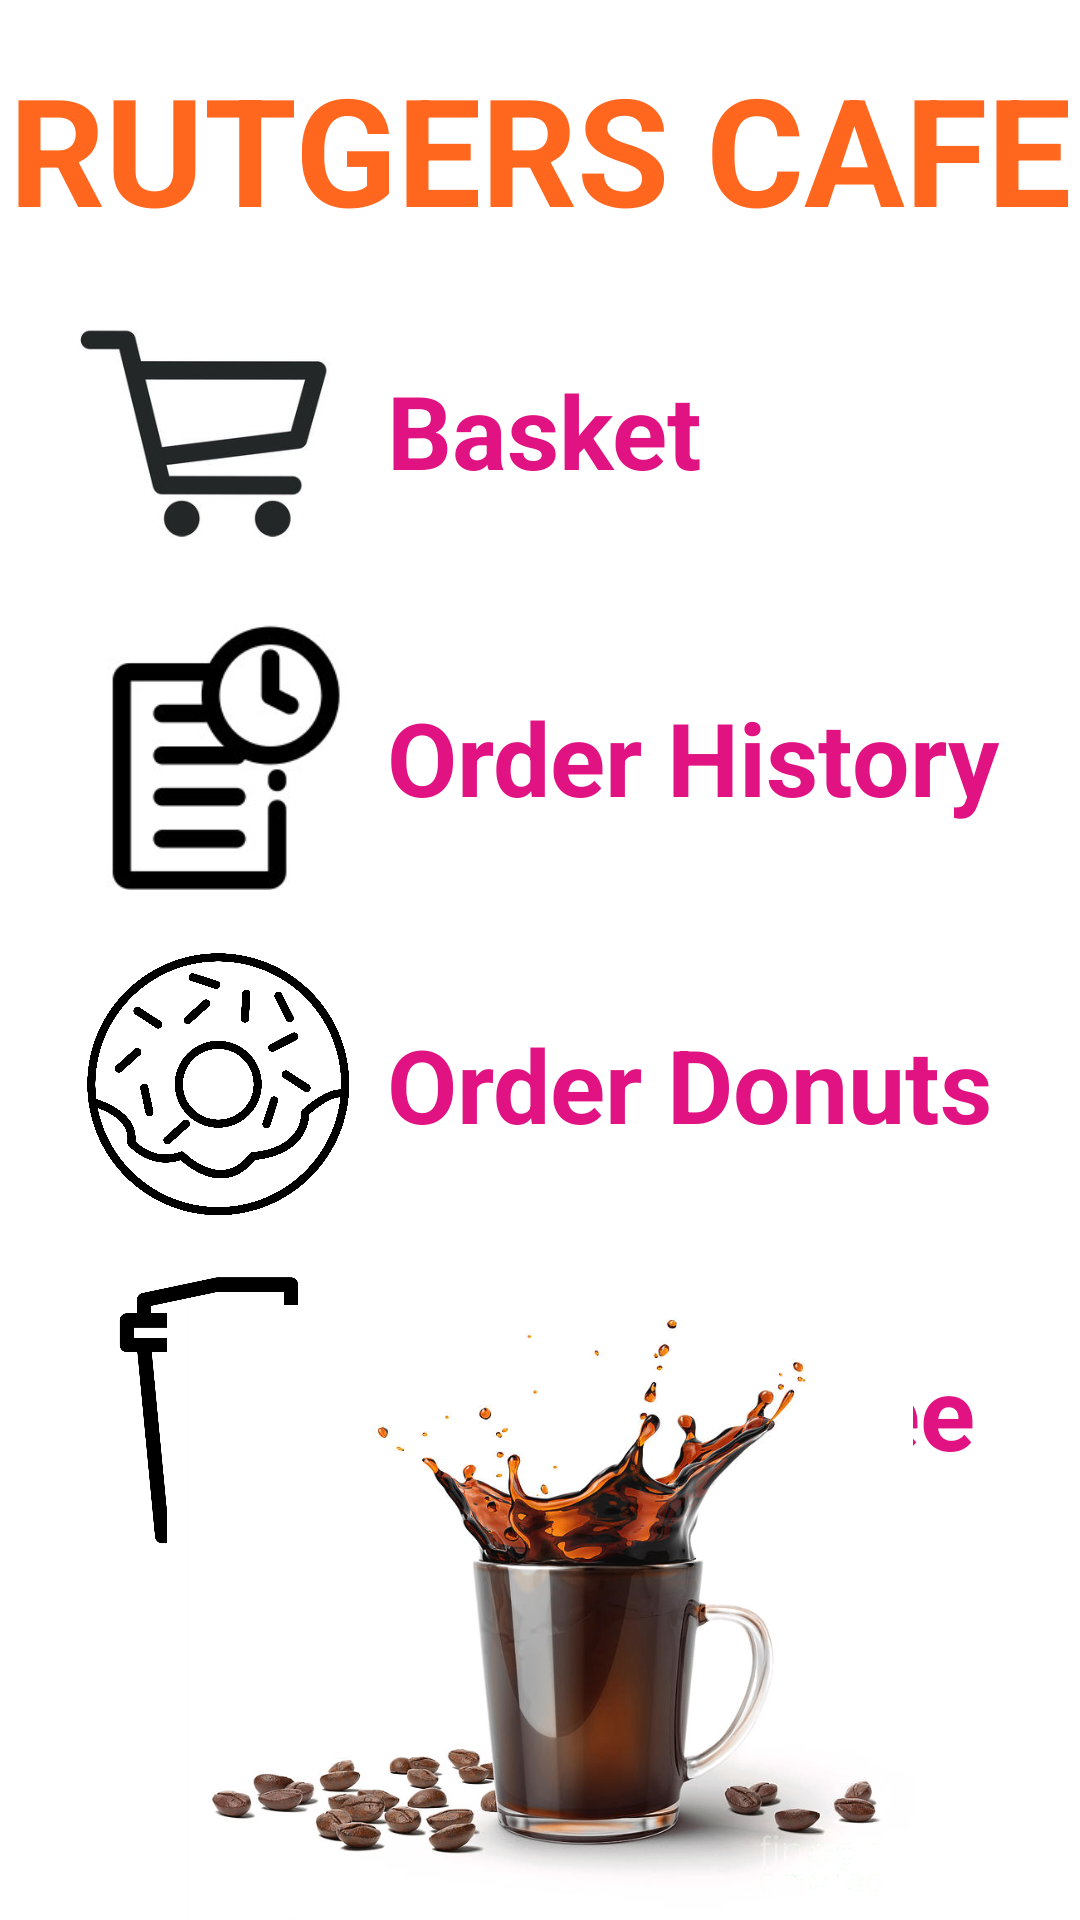

Where to tap for icons on this 1080px x 1920px app screen, as point (x, y):
donut appicon: point (218, 1084)
orders: point (226, 758)
